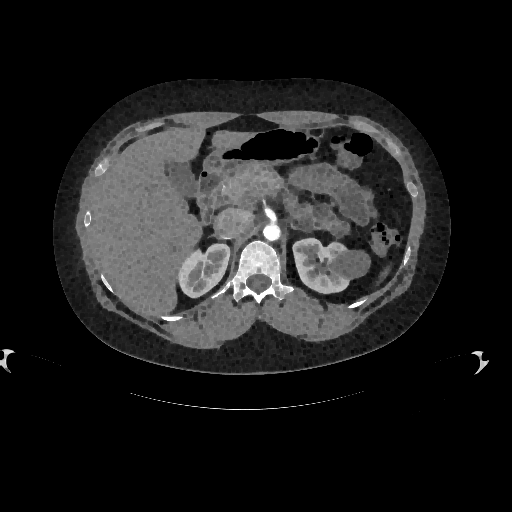Lesion: (330, 246, 372, 282)
